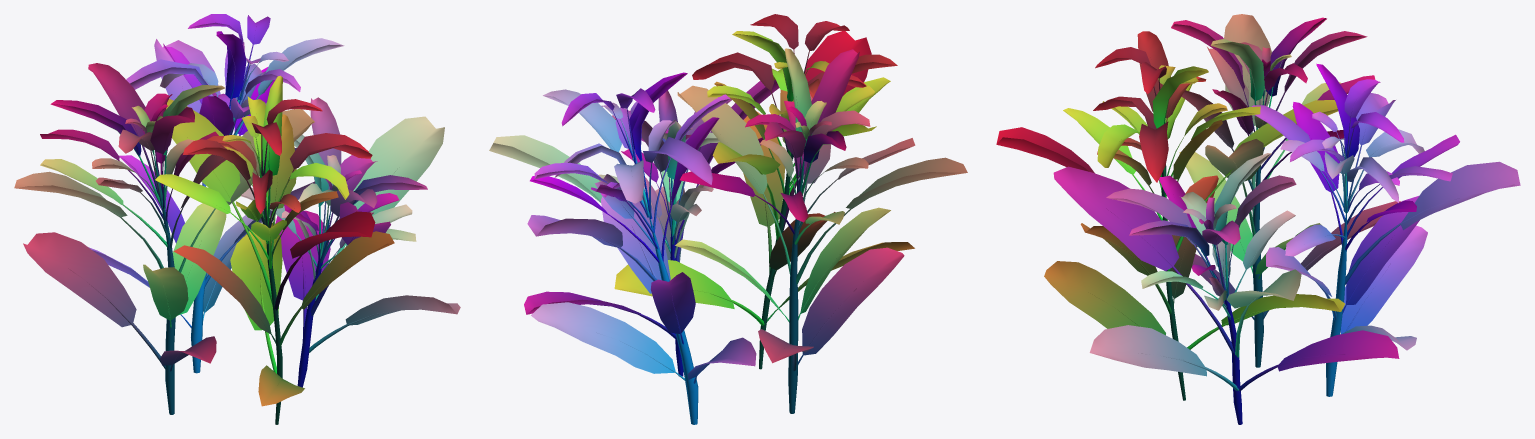
Rendered from Sage_ve3gbfoja_Mid_ve3gbfoja_VarH_LOD0.fbx.
The picture shows the model from 3 angles, left to right: view 1: azimuth 30°, elevation 25°; view 2: azimuth 150°, elevation 25°; view 3: azimuth 270°, elevation 25°; orthographic projection.
Visible parts, largest first — view 1: _4z8y_VarH_LOD1; view 2: _4z8y_VarH_LOD1; view 3: _4z8y_VarH_LOD1.
Boxes of the visible parts, left/top/right/bottom form: _4z8y_VarH_LOD1: left=14, top=14, right=460, bottom=424; _4z8y_VarH_LOD1: left=489, top=14, right=967, bottom=424; _4z8y_VarH_LOD1: left=996, top=14, right=1520, bottom=424.
Size of the model in its own units: 39.34 by 28.48 by 39.82.
